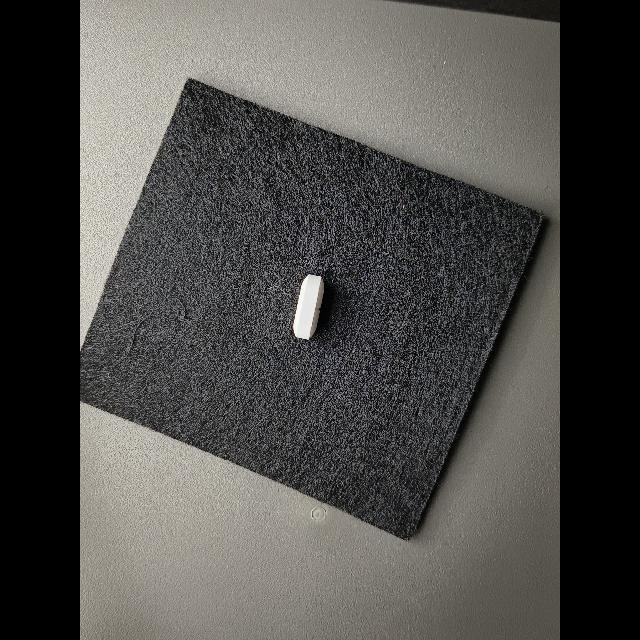Intact Pill: (293, 274, 324, 340)
